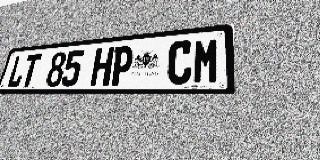5: (60, 50, 84, 86)
8: (45, 51, 68, 87)
C: (166, 40, 193, 85)
H: (90, 47, 115, 86)
L: (6, 55, 28, 87)
M: (192, 37, 220, 84)
P: (109, 45, 135, 86)
T: (19, 54, 42, 87)
